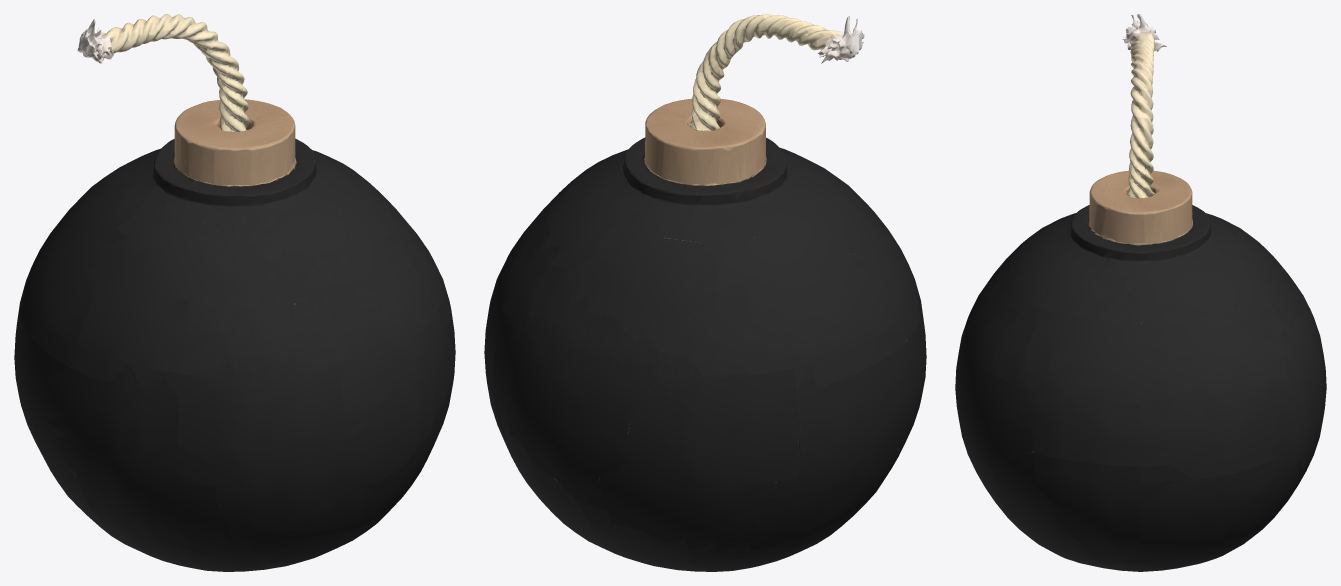
Rendered from bomb.glb.
3 views of the same model, side by side, from view 1: azimuth 30°, elevation 25°; view 2: azimuth 150°, elevation 25°; view 3: azimuth 270°, elevation 25° (orthographic). The views are drawn at different scales.
Visible parts, largest first — view 1: Mesh_0; view 2: Mesh_0; view 3: Mesh_0.
Boxes of the visible parts, box(x1,y1,x2,y2) form: Mesh_0: box(14, 14, 455, 571); Mesh_0: box(484, 14, 926, 571); Mesh_0: box(955, 14, 1326, 571).
Bounding box in the file's own units: 1.31 × 1.89 × 1.32.
1 material, 1 textured.
